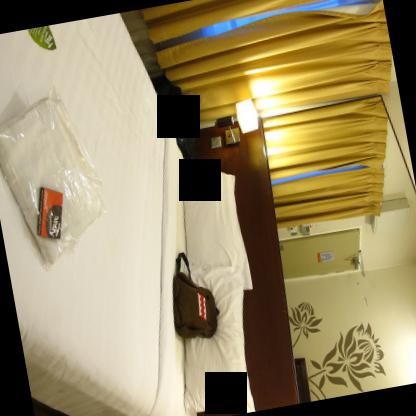backpack: (172, 249, 218, 341), (152, 72, 195, 152)
